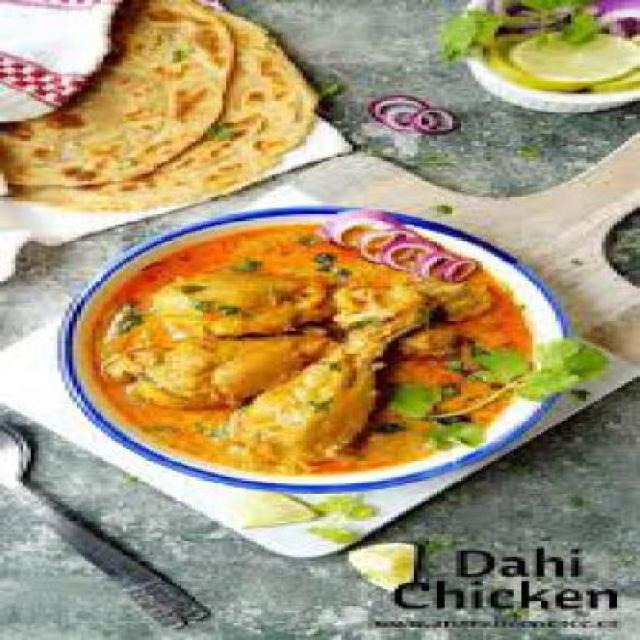CHICKEN FRY: (95, 213, 531, 478)
